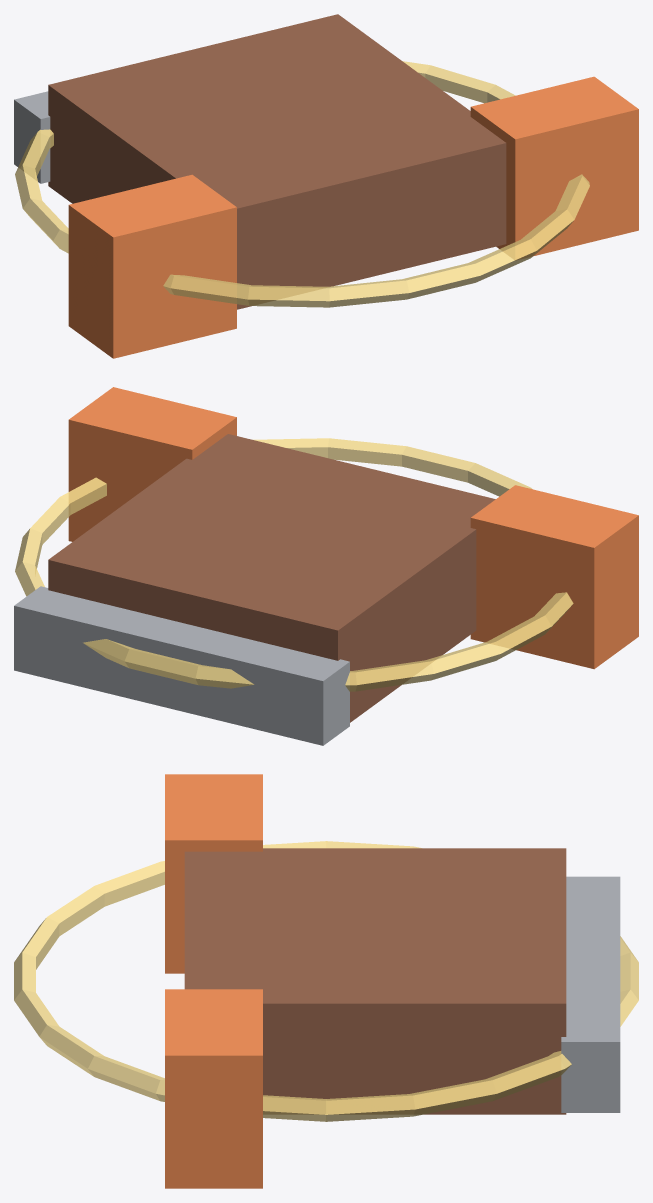
Rendered from 04_magic_armor_upgrade.glb.
3 views of the same model, one above another, from view 1: azimuth 30°, elevation 25°; view 2: azimuth 150°, elevation 25°; view 3: azimuth 270°, elevation 25° (orthographic). The views are drawn at different scales.
Visible parts, largest first — view 1: chest_plate, pauldron_l, pauldron_r, warding_aura, waist_guard; view 2: chest_plate, waist_guard, pauldron_l, warding_aura, pauldron_r; view 3: chest_plate, pauldron_r, warding_aura, waist_guard, pauldron_l.
Part boxes in pixels (x1=…): chest_plate: x1=48, y1=14, x2=506, y2=309; pauldron_l: x1=68, y1=174, x2=236, y2=358; pauldron_r: x1=470, y1=76, x2=638, y2=259; warding_aura: x1=15, y1=61, x2=589, y2=307; waist_guard: x1=14, y1=91, x2=50, y2=183; chest_plate: x1=48, y1=434, x2=495, y2=722; waist_guard: x1=14, y1=586, x2=349, y2=745; pauldron_l: x1=470, y1=485, x2=638, y2=669; warding_aura: x1=15, y1=438, x2=573, y2=691; pauldron_r: x1=68, y1=387, x2=236, y2=541; chest_plate: x1=184, y1=848, x2=566, y2=1114; pauldron_r: x1=165, y1=989, x2=262, y2=1188; warding_aura: x1=14, y1=841, x2=638, y2=1121; waist_guard: x1=561, y1=876, x2=620, y2=1112; pauldron_l: x1=165, y1=774, x2=262, y2=973.
Size of the model in its own units: 1.36 by 0.38 by 1.28.
